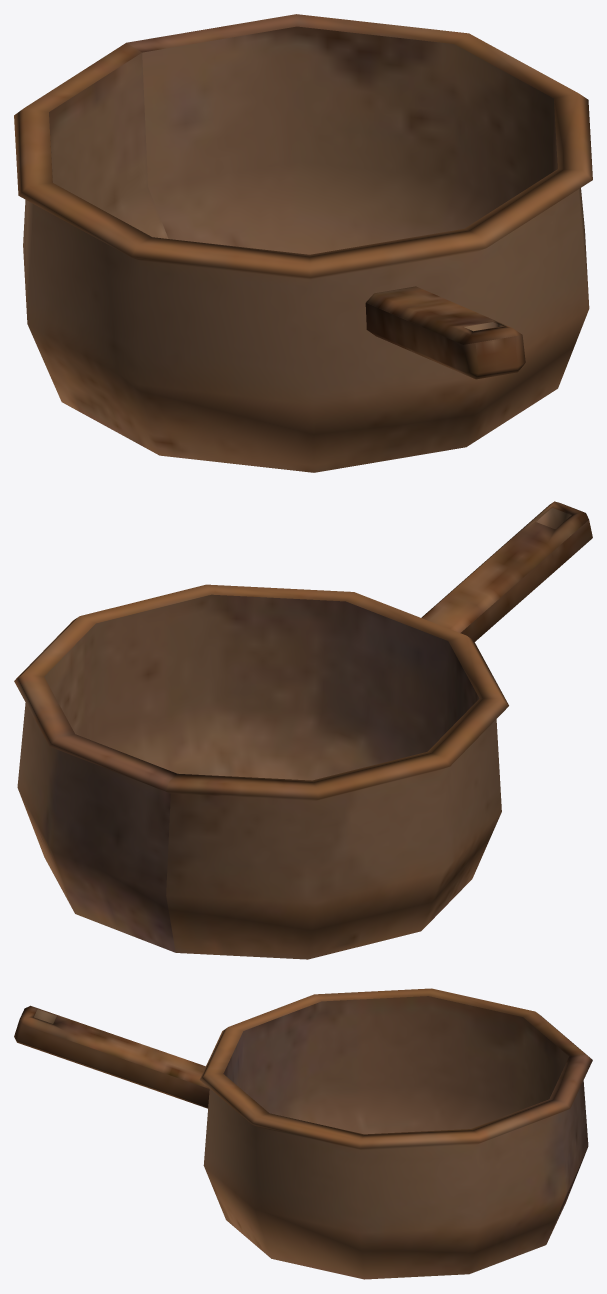
Rendered from pan2.fbx.
The picture shows the model from 3 angles, top to bottom: view 1: azimuth 30°, elevation 25°; view 2: azimuth 150°, elevation 25°; view 3: azimuth 270°, elevation 25°; orthographic projection. The views are drawn at different scales.
Parts seen in each view (by area): view 1: Strove.005; view 2: Strove.005; view 3: Strove.005.
Part boxes in pixels (x1,y1,x2,y2): Strove.005: (14, 14, 592, 472); Strove.005: (14, 501, 592, 959); Strove.005: (14, 988, 592, 1279).
Size of the model in its own units: 25.73 by 12.77 by 38.23.
Materials: 1 (1 with a texture image).
